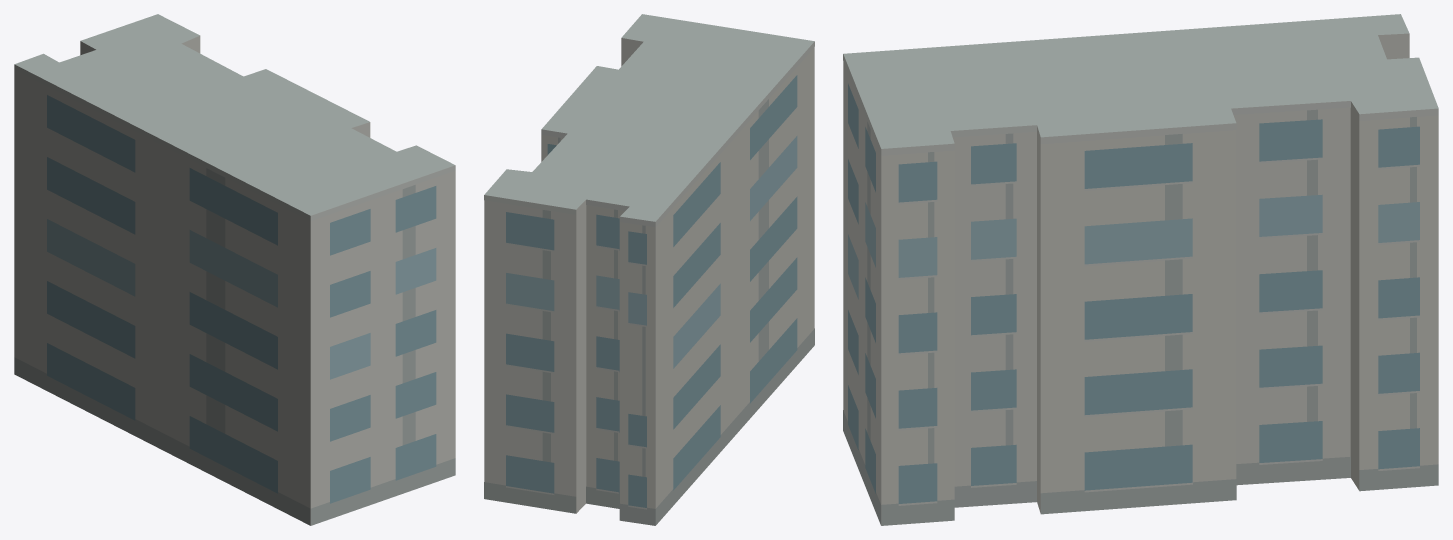
File: survey-upis-32762023.glb
3 renders of one model, left to right at view 1: azimuth 30°, elevation 25°; view 2: azimuth 150°, elevation 25°; view 3: azimuth 270°, elevation 25°, orthographic. The views are drawn at different scales.
Visible parts, largest first — view 1: survey-upis-32762023.tmp; view 2: survey-upis-32762023.tmp; view 3: survey-upis-32762023.tmp.
Part boxes in pixels (<box>): survey-upis-32762023.tmp: <box>14,14,455,525</box>; survey-upis-32762023.tmp: <box>484,14,814,525</box>; survey-upis-32762023.tmp: <box>843,14,1438,525</box>.
Bounding box in the file's own units: 10.49 × 13.65 × 19.56.
